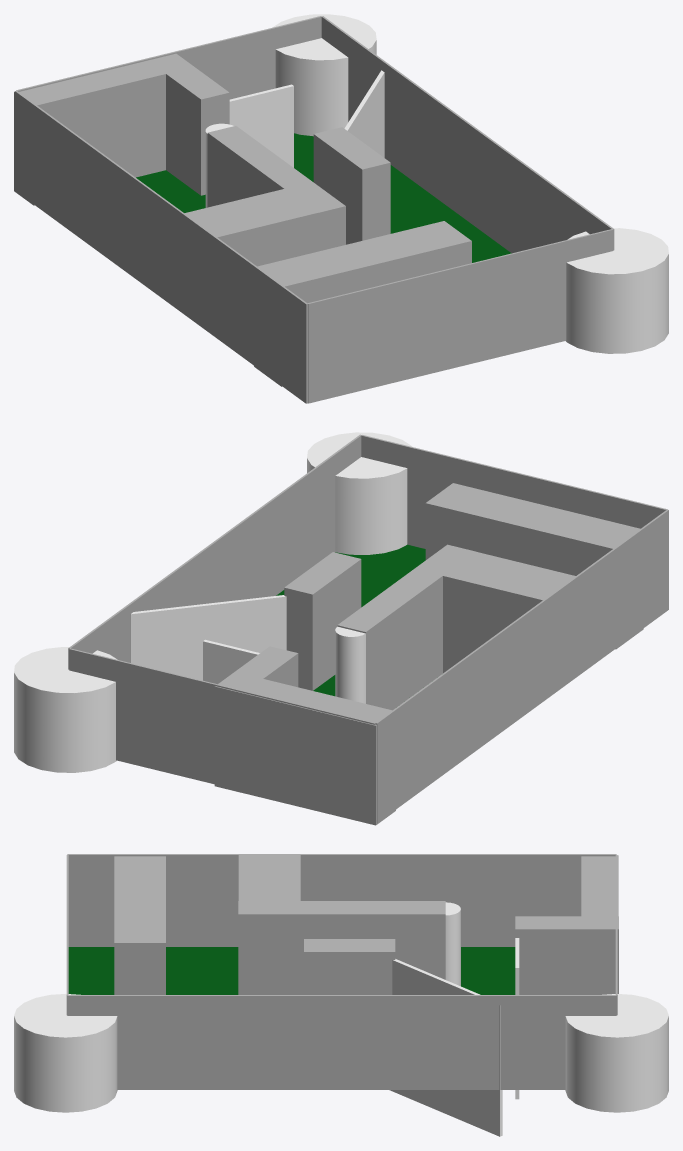
File: Enviroment.fbx
3 views of the same model, one above another, from view 1: azimuth 30°, elevation 25°; view 2: azimuth 150°, elevation 25°; view 3: azimuth 270°, elevation 25° (orthographic). The views are drawn at different scales.
Visible parts, largest first — view 1: WallE, WallN, WallO, Cylinder_3, obstacle_2, obstacle_6, Wall_int1, Wall_int2, Cylinder_1, obstacle_1, WallS, base (+4 smaller); view 2: WallE, WallO, obstacle_2, WallS, obstacle_6, Cylinder_1, Wall_int1, WallN, Cube_4, Wall_int2, Cylinder_3, obstacle_1 (+5 smaller); view 3: WallO, WallE, Wall_int1, Cylinder_3, Cylinder_1, base, obstacle_1, obstacle_6, Cube_4, obstacle_5, Wall_int2, obstacle_2 (+4 smaller).
Part boxes in pixels (bbox=[...]): WallE: bbox=[15, 91, 307, 403]; WallN: bbox=[308, 229, 612, 403]; WallO: bbox=[321, 16, 614, 253]; Cylinder_3: bbox=[566, 228, 668, 353]; obstacle_2: bbox=[14, 60, 165, 205]; obstacle_6: bbox=[254, 221, 471, 386]; Wall_int1: bbox=[207, 126, 345, 251]; Wall_int2: bbox=[183, 185, 330, 266]; Cylinder_1: bbox=[272, 14, 376, 136]; obstacle_1: bbox=[148, 53, 229, 195]; WallS: bbox=[16, 16, 321, 99]; base: bbox=[136, 133, 511, 262]; WallE: bbox=[375, 509, 668, 823]; WallO: bbox=[68, 434, 361, 669]; obstacle_2: bbox=[243, 679, 395, 825]; WallS: bbox=[69, 648, 375, 784]; obstacle_6: bbox=[425, 483, 643, 649]; Cylinder_1: bbox=[14, 647, 117, 772]; Wall_int1: bbox=[337, 544, 475, 710]; WallN: bbox=[361, 435, 667, 548]; Cube_4: bbox=[130, 595, 286, 680]; Wall_int2: bbox=[429, 548, 576, 673]; Cylinder_3: bbox=[307, 432, 412, 554]; obstacle_1: bbox=[214, 646, 298, 792]; WallO: bbox=[67, 995, 616, 1089]; WallE: bbox=[67, 854, 616, 946]; Wall_int1: bbox=[238, 901, 445, 994]; Cylinder_3: bbox=[14, 994, 117, 1112]; Cylinder_1: bbox=[565, 994, 668, 1112]; base: bbox=[68, 947, 515, 994]; obstacle_1: bbox=[515, 916, 618, 994]; obstacle_6: bbox=[114, 856, 165, 994]; Cube_4: bbox=[389, 959, 502, 1136]; obstacle_5: bbox=[304, 939, 386, 994]; Wall_int2: bbox=[238, 855, 300, 900]; obstacle_2: bbox=[581, 855, 618, 916].
Bounding box in the file's own units: 1866 × 753 × 3161.
